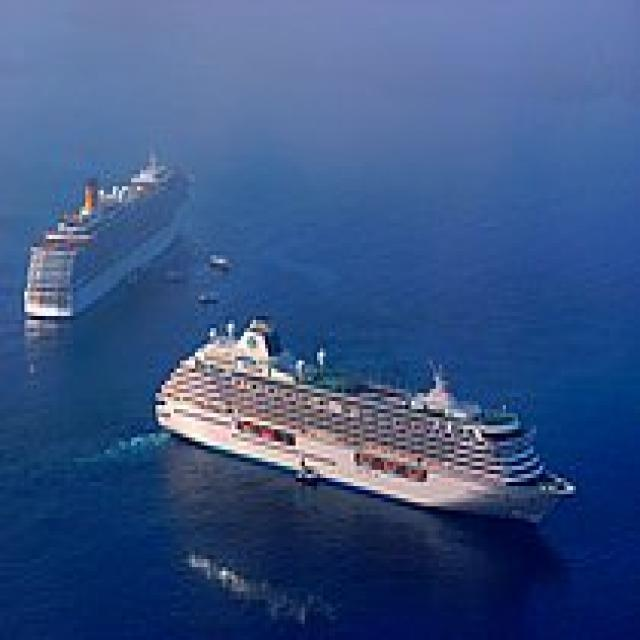Ship: (154, 305, 593, 544), (16, 143, 199, 330)
